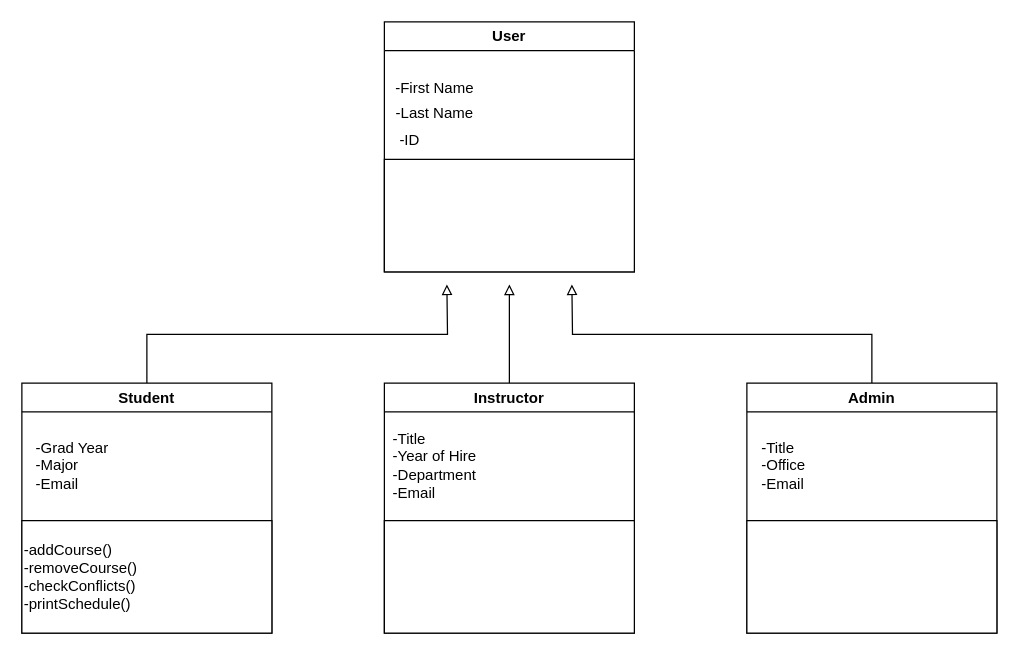
The diagram is 1019 pixels wide and 655 high, and some of its shapes have lost their labels. The centre of each missing label's shape, as x and y in pixels:
-createCourse() -removeCourse() -addUser() -addToCourse() -removeFromCourse(): [871,576]
-printCourseSchedule() -printRoster() searchRoster(): [508,576]
-showFirstName() -showLastName() -showID() -setFirst() -setLast() -setID(): [508,215]
